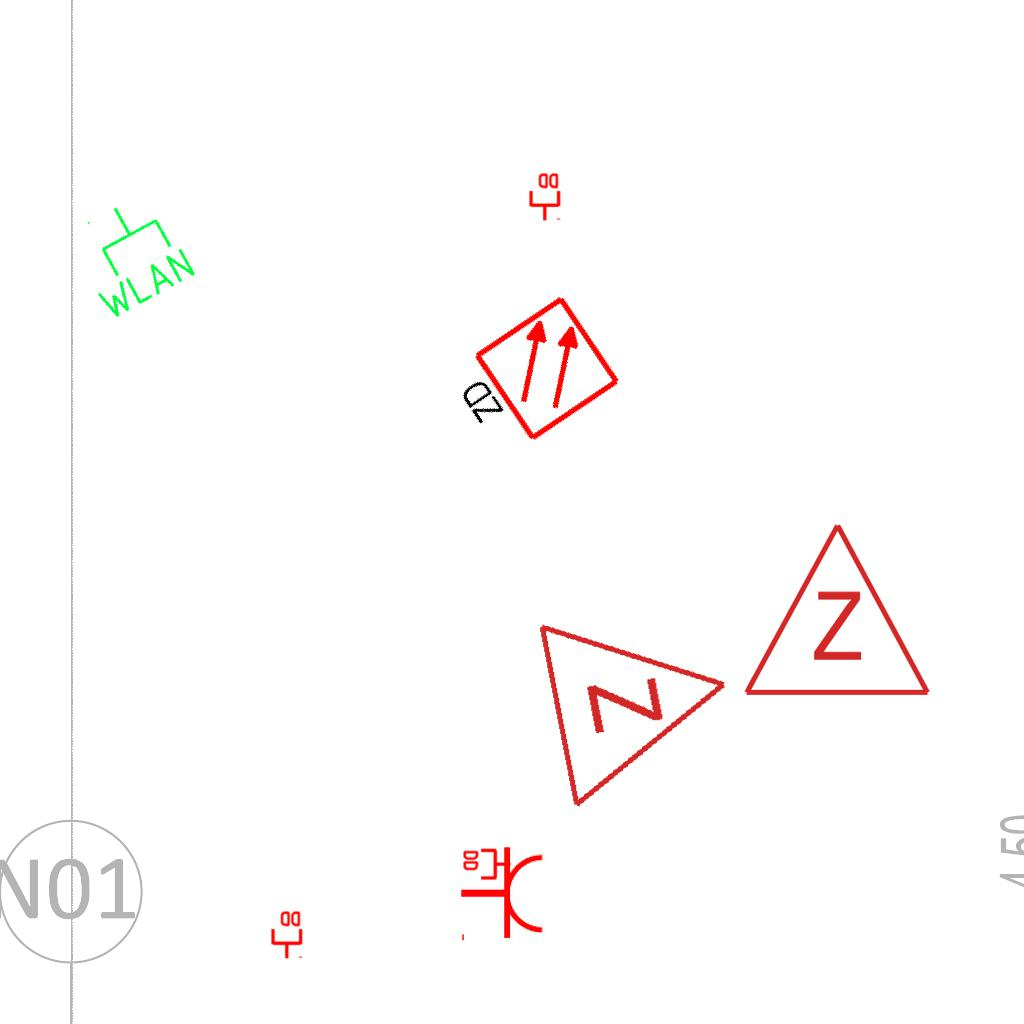Datenanschluss_zweifach: (527, 171, 561, 222), (269, 909, 303, 960), (461, 848, 512, 882)
Schukosteckdose_einfach: (459, 845, 546, 945)
WLAN: (58, 184, 202, 327)
ZD_Melder_in_Zwischendecke_mit_Revisionsoeffnung_mind_40_x_40_cm: (438, 291, 626, 470)
Zimmersignalleuchte: (523, 582, 757, 814), (737, 510, 933, 710)
